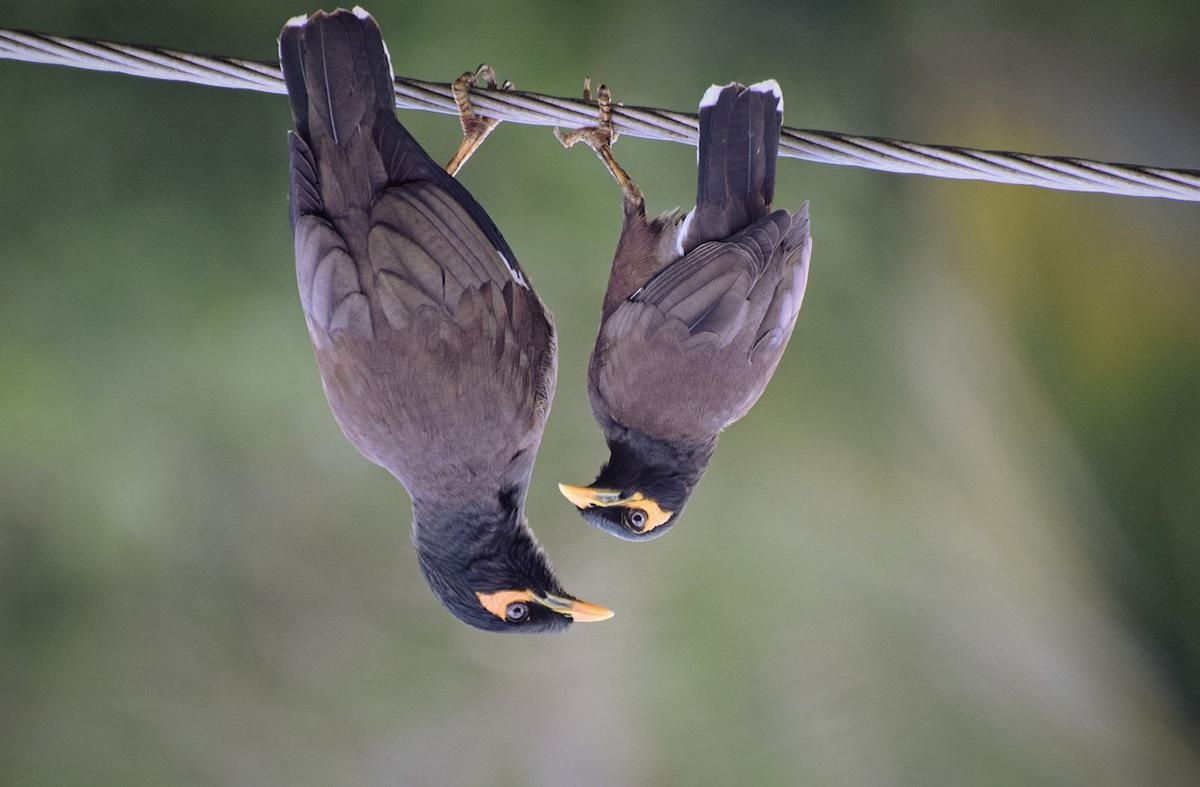myna: (280, 46, 603, 656), (571, 79, 873, 557)
